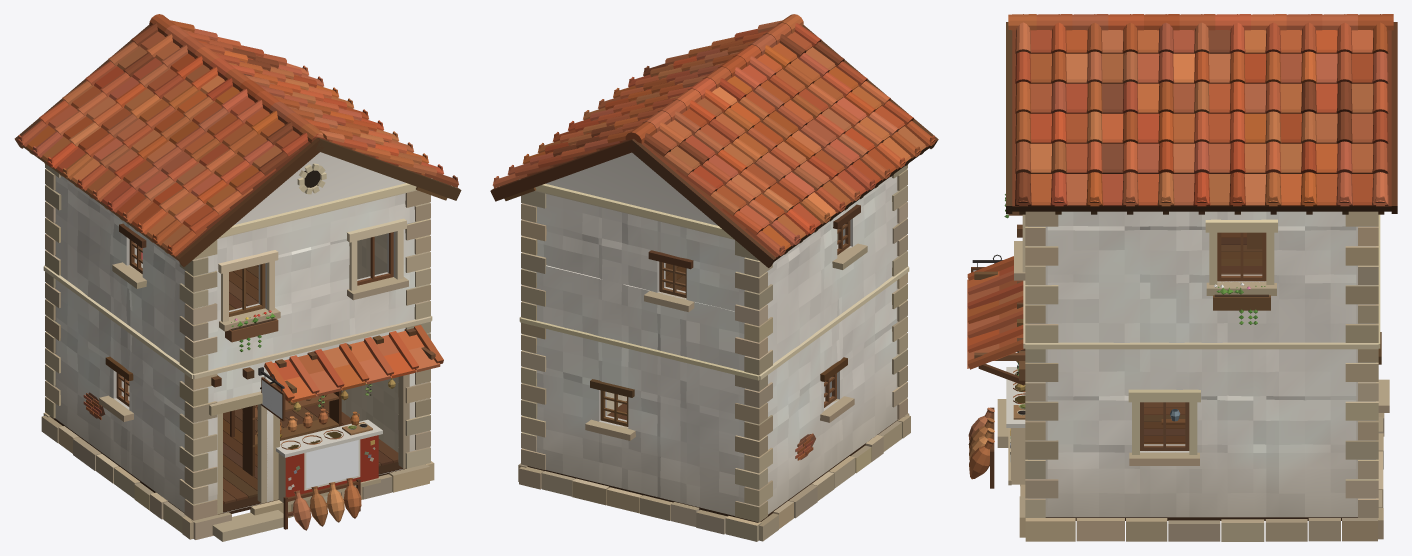
The model's file is shop_oilshop.glb.
3 renders of one model, left to right at view 1: azimuth 30°, elevation 25°; view 2: azimuth 150°, elevation 25°; view 3: azimuth 270°, elevation 25°, orthographic. The views are drawn at different scales.
Visible parts, largest first — view 1: House, Walls, Rooms; view 2: House, Walls, Rooms; view 3: House, Walls, Rooms.
Boxes of the visible parts, x1,y1,x2,y2 form: House: (14, 14, 461, 541); Walls: (54, 152, 427, 513); Rooms: (128, 233, 398, 504); House: (490, 14, 938, 541); Walls: (524, 152, 898, 515); Rooms: (607, 229, 838, 420); House: (967, 14, 1397, 541); Walls: (1028, 211, 1375, 517); Rooms: (1144, 232, 1262, 444).
Size of the model in its own units: 4.44 by 5.63 by 4.83.
Materials: 6 (6 with a texture image).
